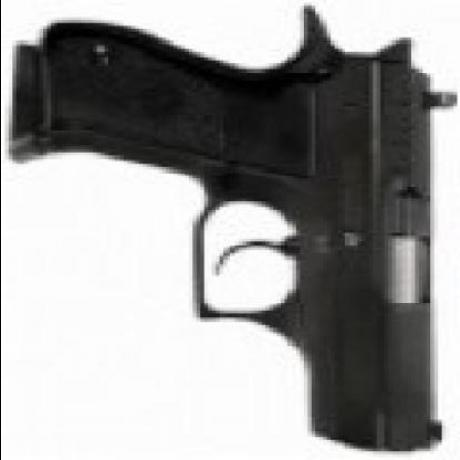weapon: (6, 9, 452, 456)
